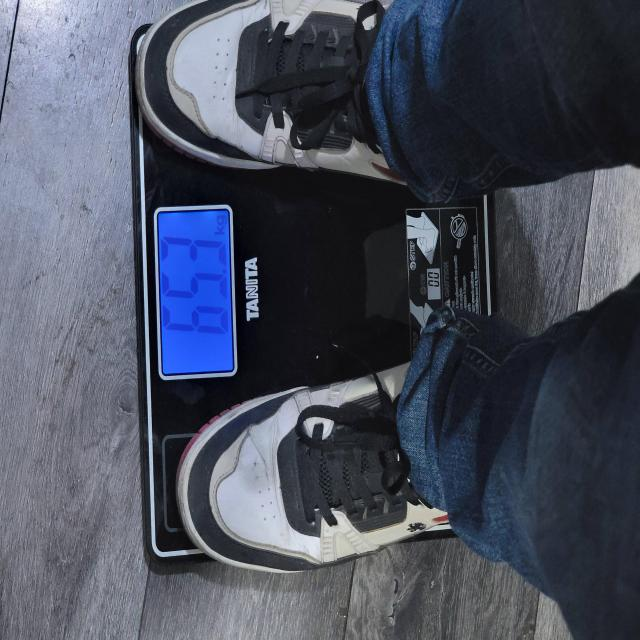ws: (152, 205, 239, 381)
